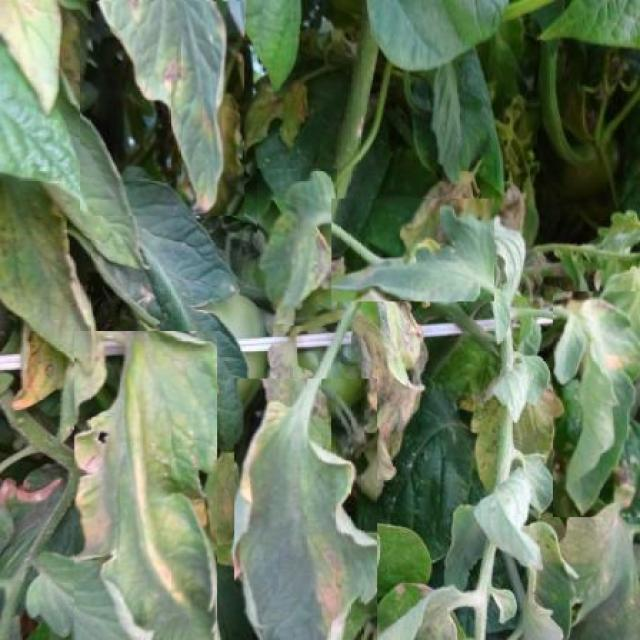Late Blight: (75, 330, 218, 640), (235, 378, 378, 640), (80, 1, 244, 216), (553, 292, 640, 517), (332, 199, 494, 302), (257, 168, 337, 326)
